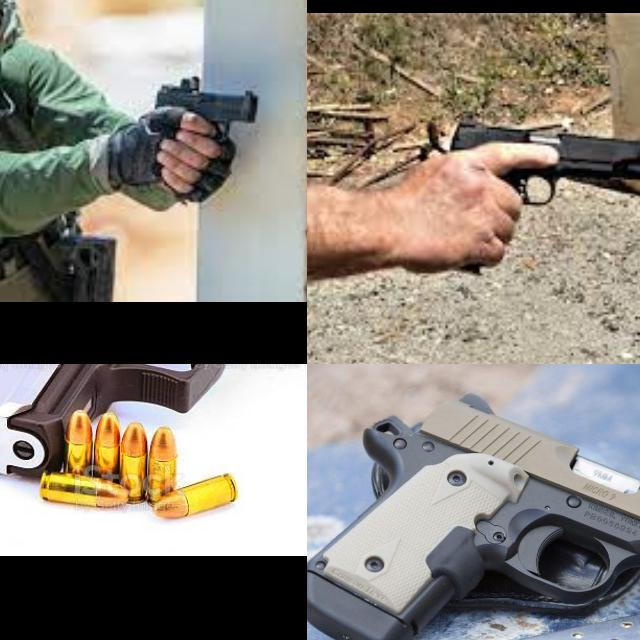handgun: (307, 388, 640, 640), (0, 364, 307, 521), (429, 114, 640, 210), (152, 73, 264, 144)
